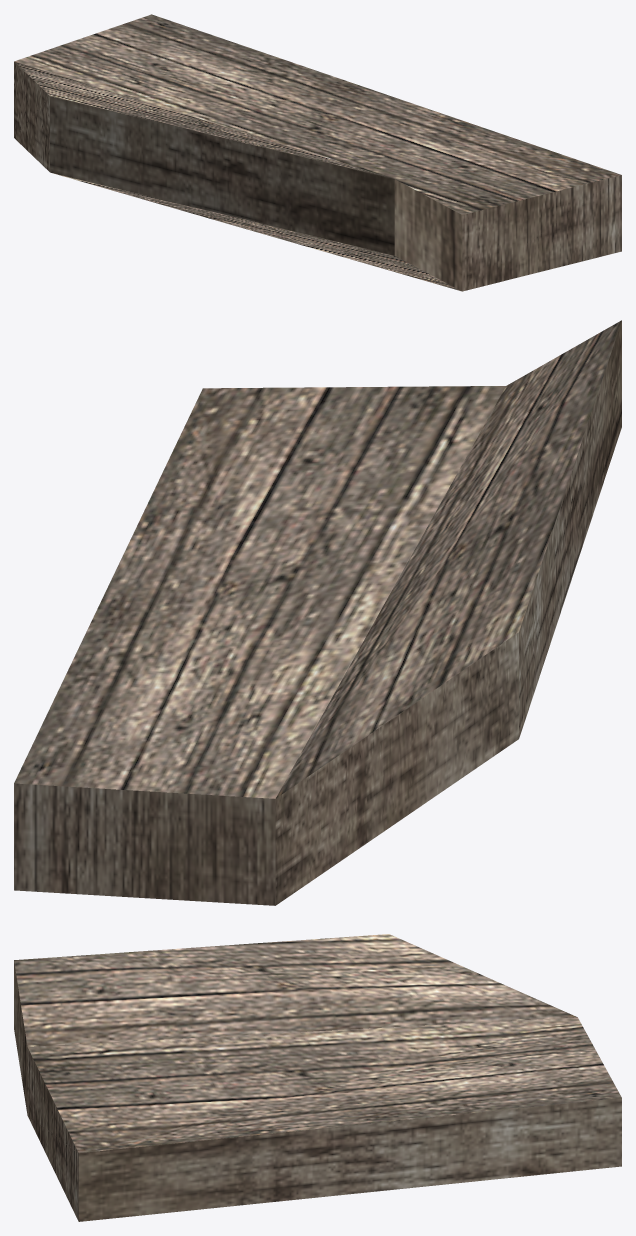
The model's file is wood_splinter_02_001.FBX.
3 views of the same model, one above another, from view 1: azimuth 30°, elevation 25°; view 2: azimuth 150°, elevation 25°; view 3: azimuth 270°, elevation 25° (orthographic). The views are drawn at different scales.
Parts seen in each view (by area): view 1: Object1252; view 2: Object1252; view 3: Object1252.
Part boxes in pixels (left/top/right/bottom): Object1252: left=14, top=14, right=621, bottom=291; Object1252: left=14, top=320, right=621, bottom=905; Object1252: left=14, top=934, right=621, bottom=1221.
Bounding box in the file's own units: 0.6138 × 0.2692 × 0.9027.
1 material, 1 textured.
